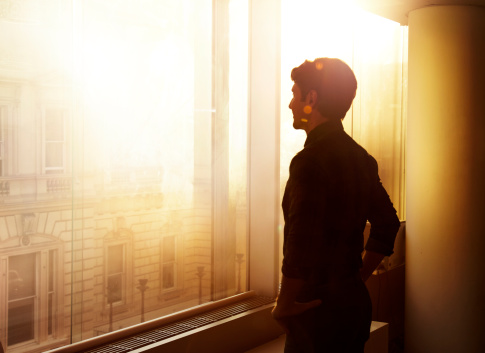em pe: (267, 37, 400, 353)
